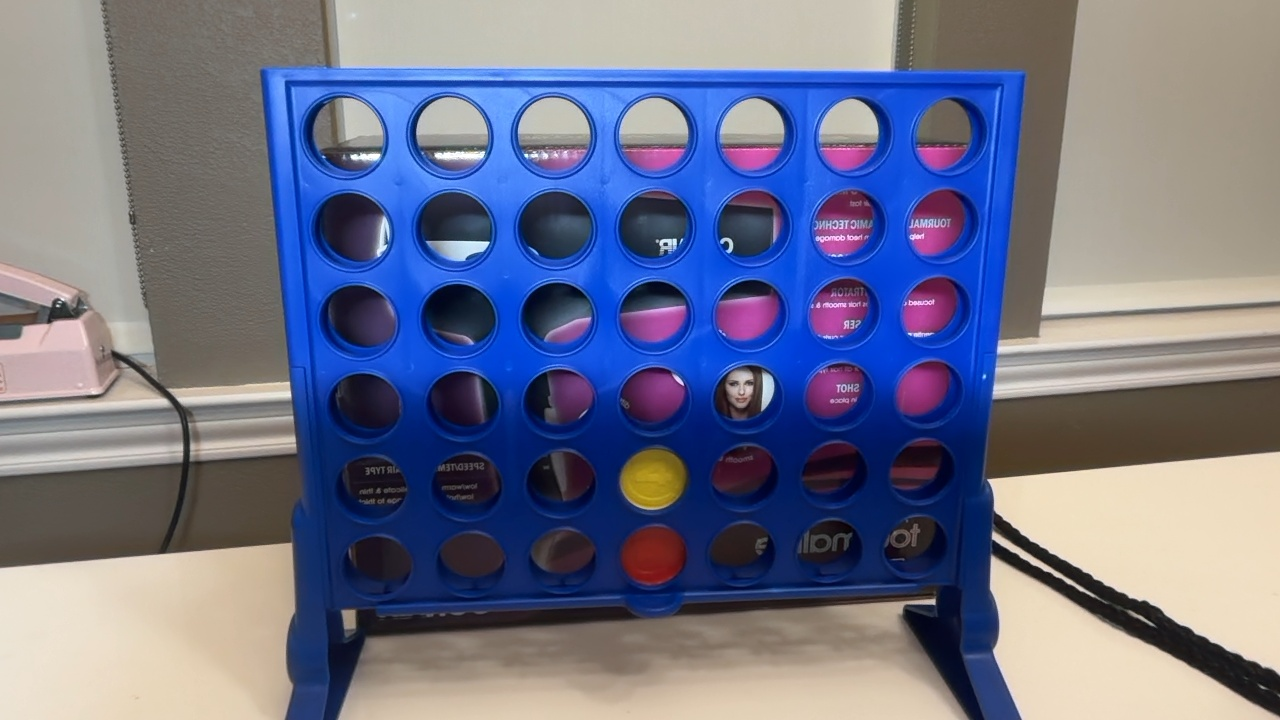red piece: (621, 525, 685, 585)
yellow piece: (620, 448, 687, 509)
